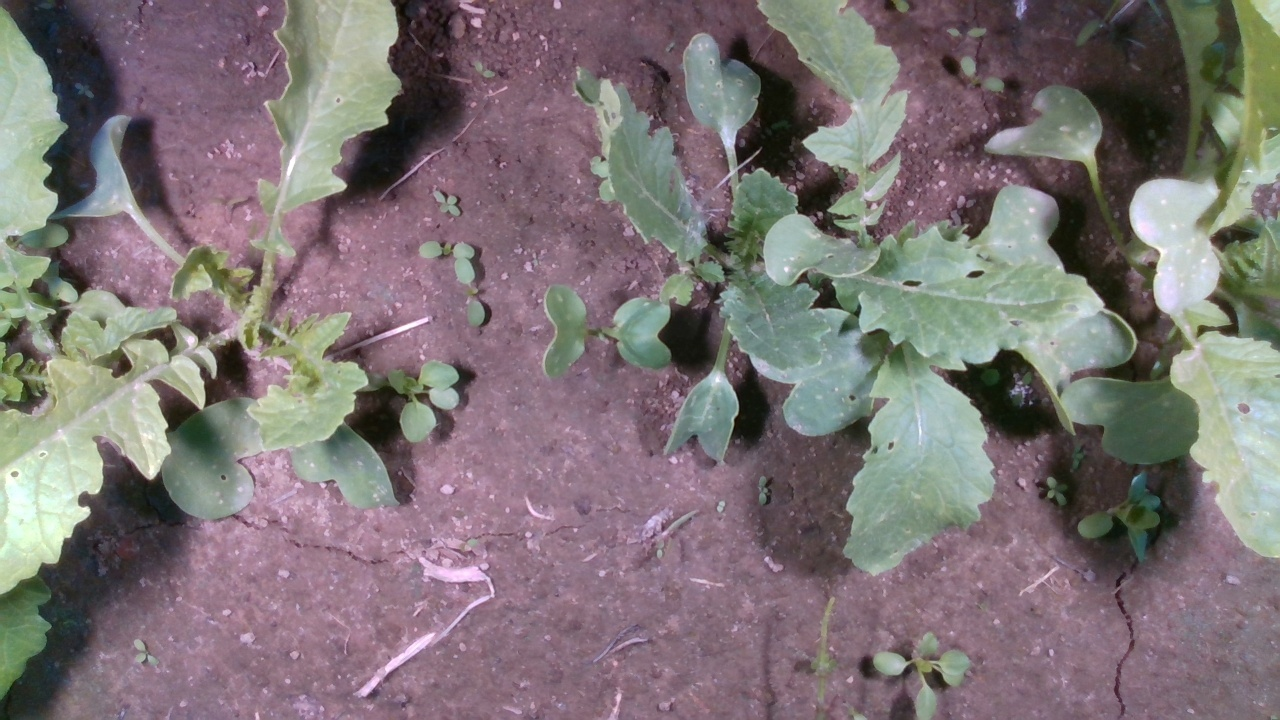weed: (958, 54, 1007, 93), (432, 188, 462, 218), (132, 637, 160, 668), (1044, 474, 1069, 508), (945, 26, 988, 39), (472, 58, 495, 77), (755, 473, 767, 504), (713, 497, 726, 514)
